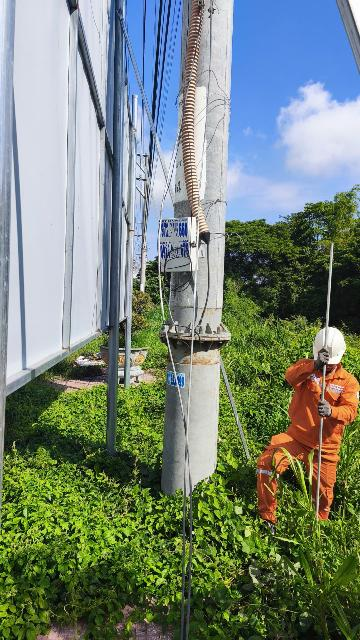gloves: (313, 397, 332, 417), (310, 351, 331, 369)
helmet: (311, 330, 348, 367)
